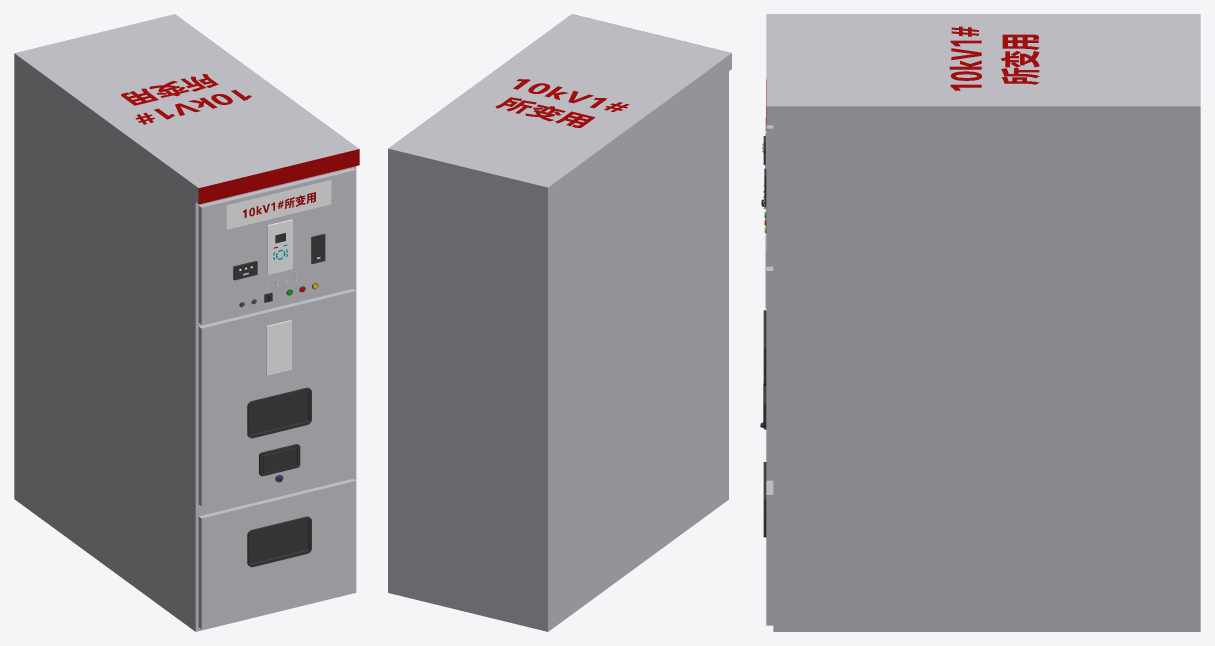
The model's file is 3-1-processed.gltf.
3 views of the same model, side by side, from view 1: azimuth 30°, elevation 25°; view 2: azimuth 150°, elevation 25°; view 3: azimuth 270°, elevation 25° (orthographic). The views are drawn at different scales.
Parts seen in each view (by area): view 1: Rectangle8848, Rectangle8850, Rectangle8849, Rectangle8847, Obj3d66_1138023_124_1049, Obj3d66_1138023_124_1048, Text364, Obj3d66_1138023_187_716, Obj3d66_1138023_187_715, Obj3d66_1138023_127_218; view 2: Rectangle8848, Text364; view 3: Rectangle8848, Rectangle8850, Text364.
Boxes of the visible parts, x1,y1,x2,y2 form: Rectangle8848: (14,14,358,631); Rectangle8850: (198,168,356,629); Rectangle8849: (198,149,359,204); Rectangle8847: (226,180,331,229); Obj3d66_1138023_124_1049: (247,516,311,567); Obj3d66_1138023_124_1048: (247,387,311,438); Text364: (121,74,251,124); Obj3d66_1138023_187_716: (266,320,291,375); Obj3d66_1138023_187_715: (267,219,292,275); Obj3d66_1138023_127_218: (259,444,300,476); Rectangle8848: (388,14,731,631); Text364: (495,79,629,127); Rectangle8848: (766,14,1200,631); Rectangle8850: (766,125,773,625); Text364: (949,26,1039,90).
Size of the model in its own units: 830 by 2201 by 1671.
